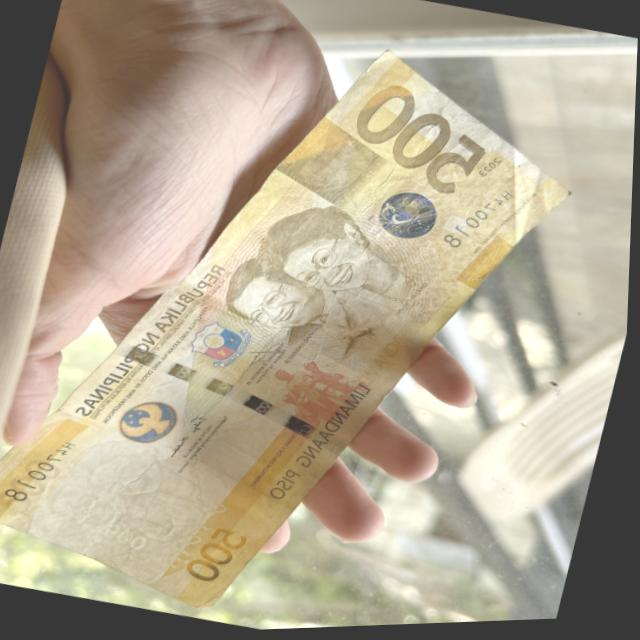concealed_value: (270, 108, 394, 216)
optically_variable_device: (372, 184, 449, 247)
see_through_mark: (168, 496, 238, 578)
value_watermark: (105, 517, 162, 555)
watermark: (23, 421, 240, 572)
